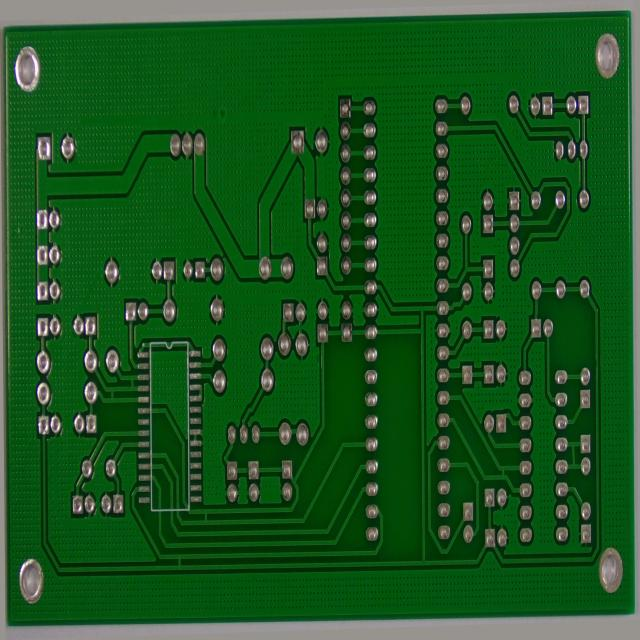short: (564, 447, 583, 488), (194, 505, 210, 532), (495, 467, 510, 495), (102, 380, 117, 405), (169, 553, 182, 578), (125, 367, 136, 389)
